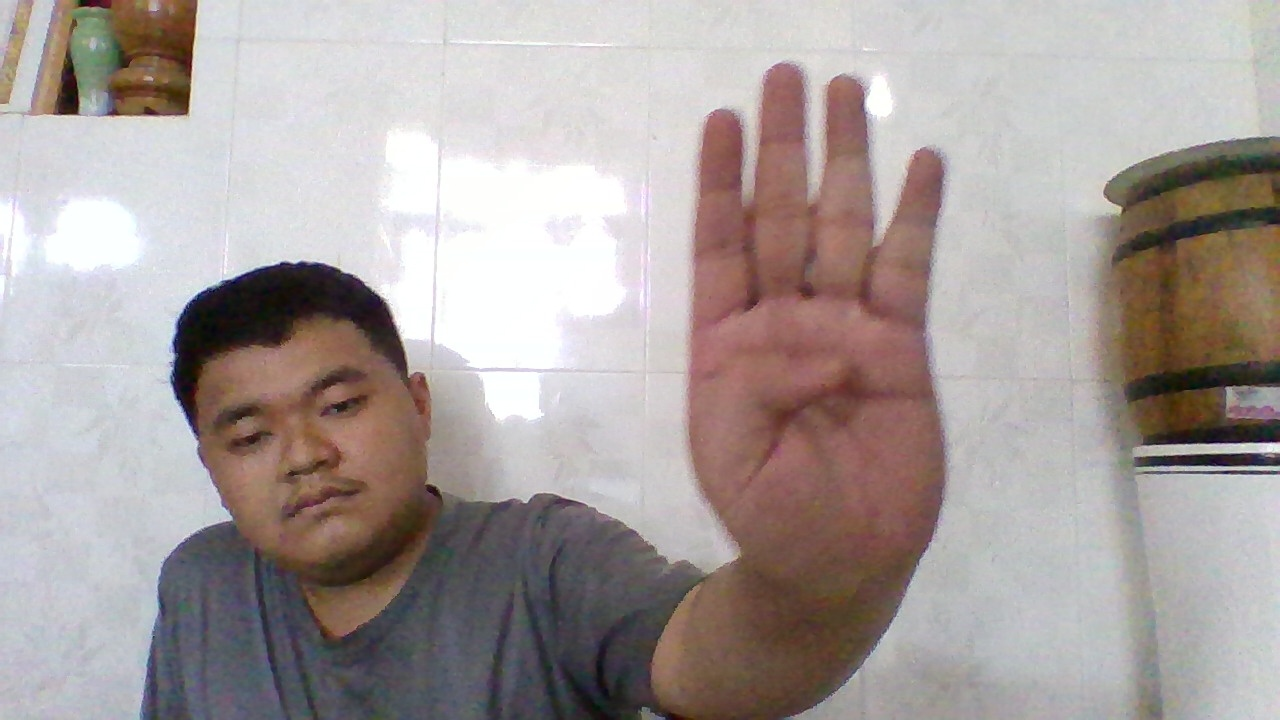B: (704, 62, 946, 596)
